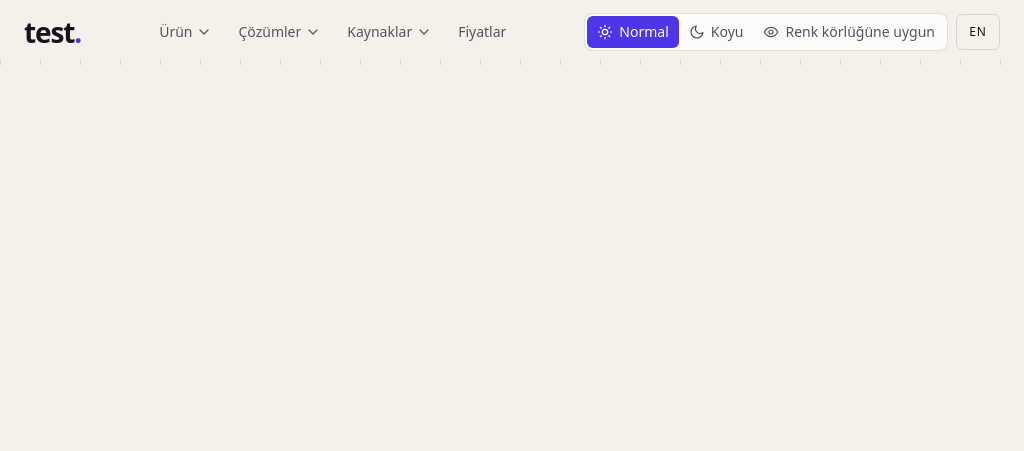
Test: Header — mobil menü › masaüstü mega menü: açılır, ilgili sütuna odaklanır, Escape ile düğmeye döner
Click the button "Çözümler" at (280, 32), box [226,14,333,50]
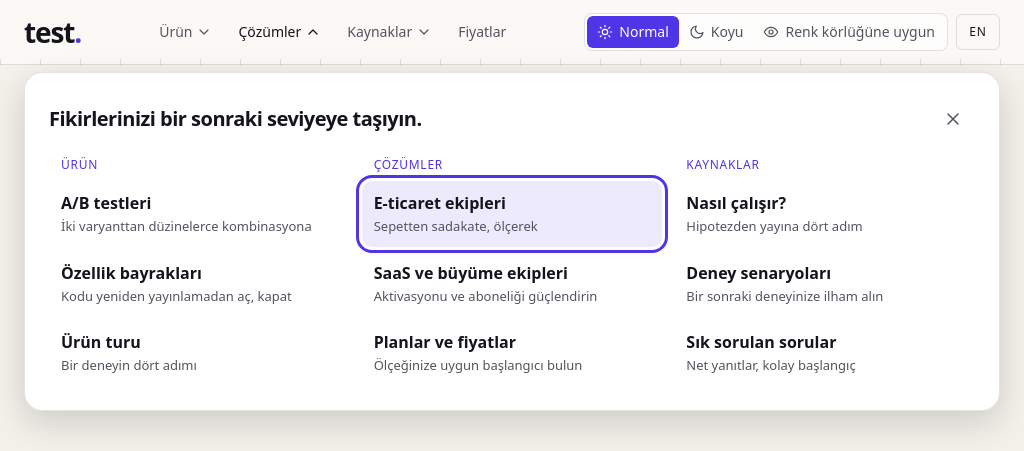
Expected: the button "Çözümler" is expanded, [226,14,333,50]
Press Escape
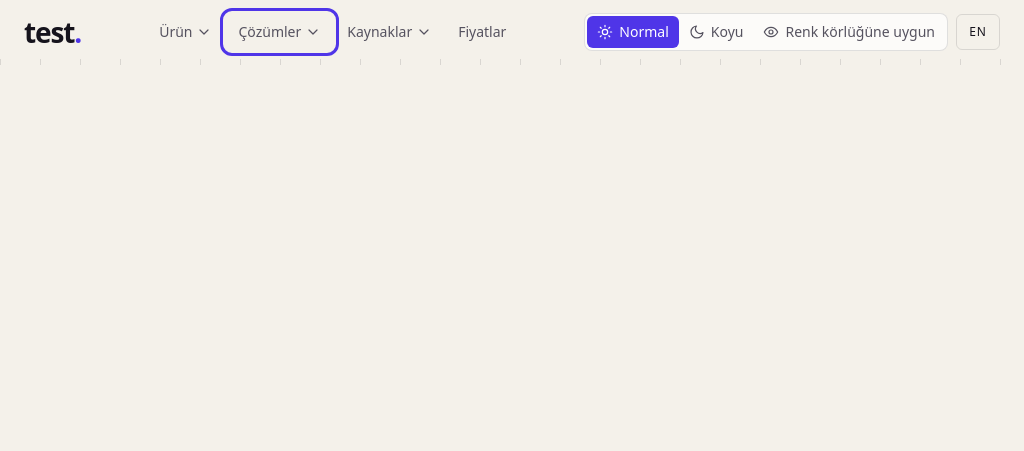
Expected: the button "Çözümler" is collapsed, [226,14,333,50]
